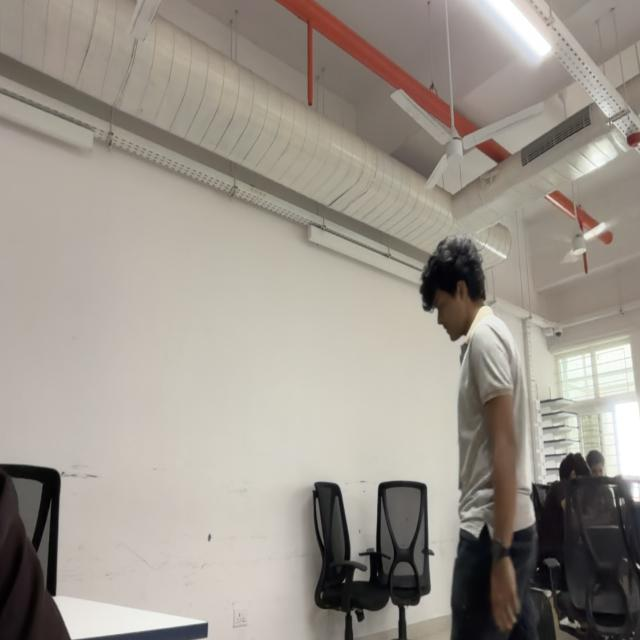kshitij: (421, 235, 487, 342)
